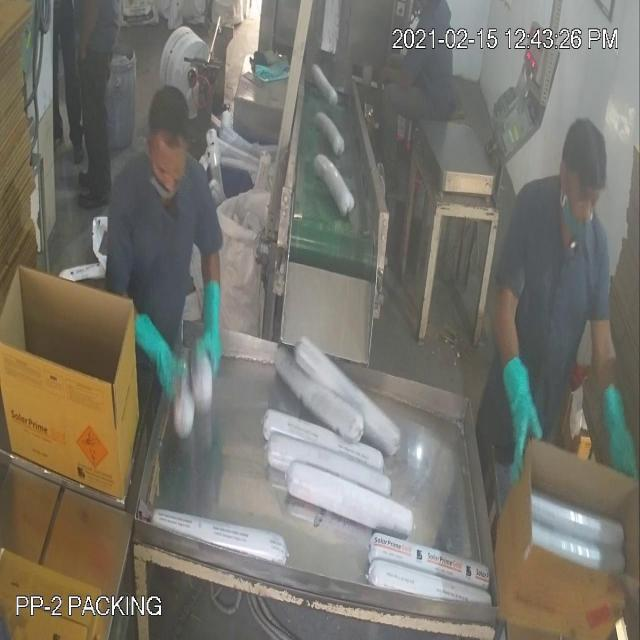Gloves: (40, 44, 619, 439)
